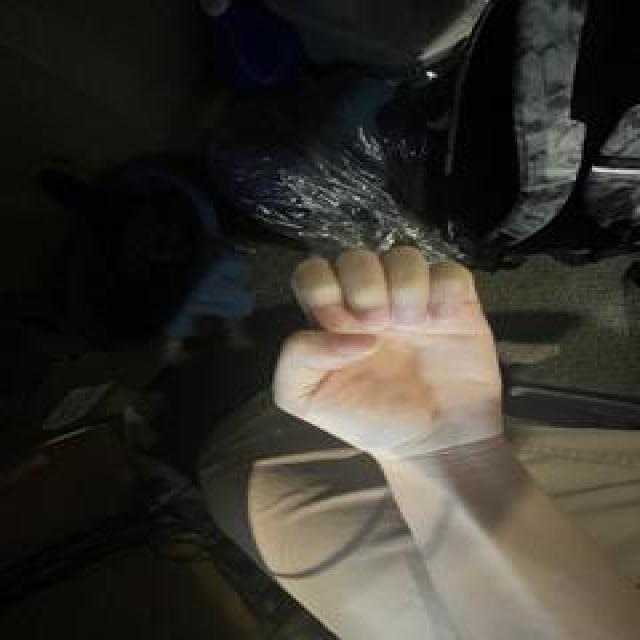E: (265, 242, 511, 468)
